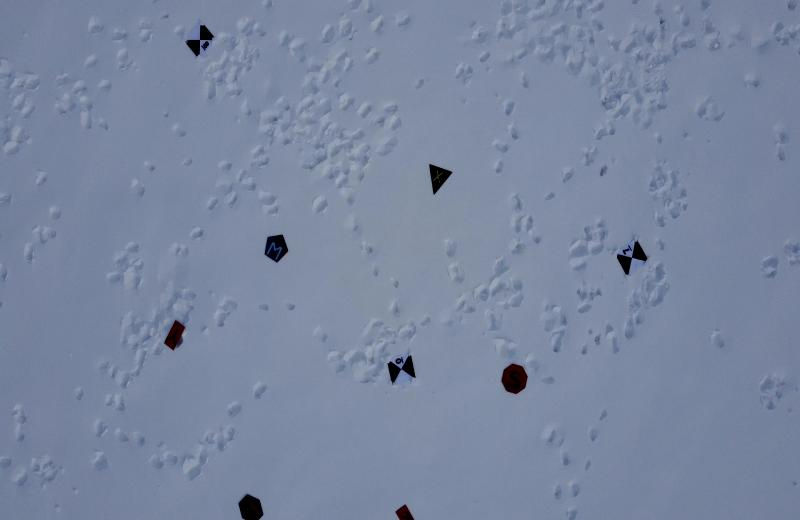Hexagon: (235, 490, 267, 520)
Octagon: (499, 360, 531, 397)
Pentagon: (260, 231, 292, 270)
Rectangle: (160, 316, 191, 355), (391, 501, 417, 520)
Triangle: (424, 160, 456, 200)
